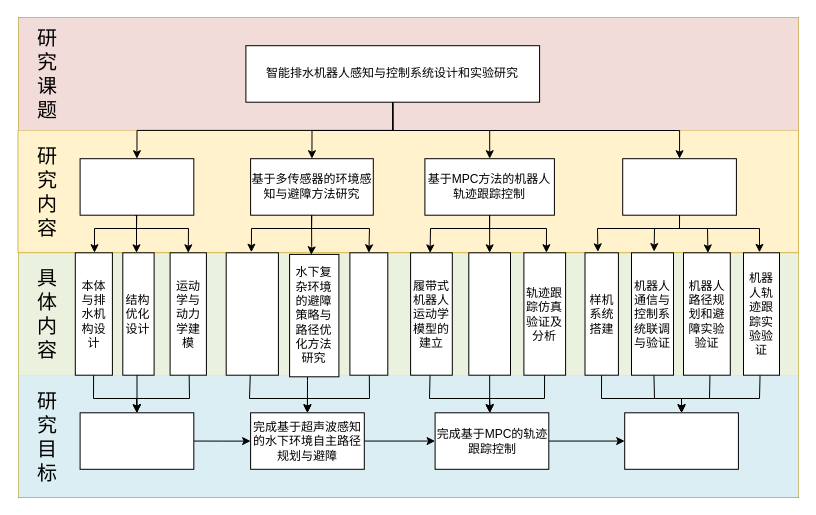
The diagram is 816 pixels wide and 515 high, and some of its shapes have lost their labels. Here are the shapes that lost their labels. From the top down, the centre of each, then its label:
pixel 136 186: 机构设计和运动控制系统设计
pixel 679 186: 智能排水机器人系统实现与实验研究
pixel 251 313: 扫描超声波水下环境环境感知与地图构建方法设计
pixel 368 313: 路径规划仿真验证与性能分析
pixel 489 313: 轨迹跟踪控制器设计
pixel 136 440: 完成机器人机构设计和控制系统搭建
pixel 681 440: 算法与系统迭代并通过实验验证
